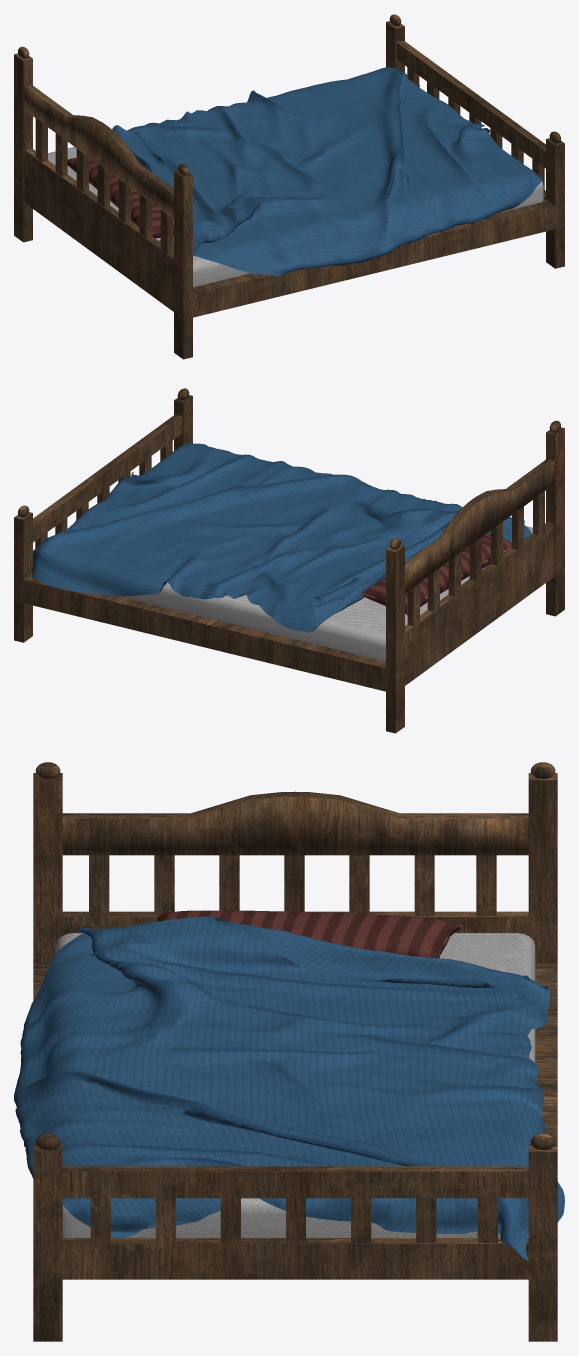
Rendered from Bed.glb.
The picture shows the model from 3 angles, top to bottom: view 1: azimuth 30°, elevation 25°; view 2: azimuth 150°, elevation 25°; view 3: azimuth 270°, elevation 25°; orthographic projection. The views are drawn at different scales.
Visible parts, largest first — view 1: Lowgo, Cube.017, Cube.010; view 2: Lowgo, Cube.017, Cube.010; view 3: Lowgo, Cube.017, Cube.010.
Part boxes in pixels (<box>): Lowgo: <box>67,67,543,275</box>; Cube.017: <box>14,14,564,359</box>; Cube.010: <box>48,147,543,287</box>; Lowgo: <box>32,443,531,632</box>; Cube.017: <box>14,388,564,733</box>; Cube.010: <box>119,526,532,661</box>; Lowgo: <box>14,910,564,1260</box>; Cube.017: <box>33,762,557,1341</box>; Cube.010: <box>55,933,535,1237</box>.
Bounding box in the file's own units: 4.57 × 2.12 × 3.6.
Materials: 3 (3 with a texture image).
